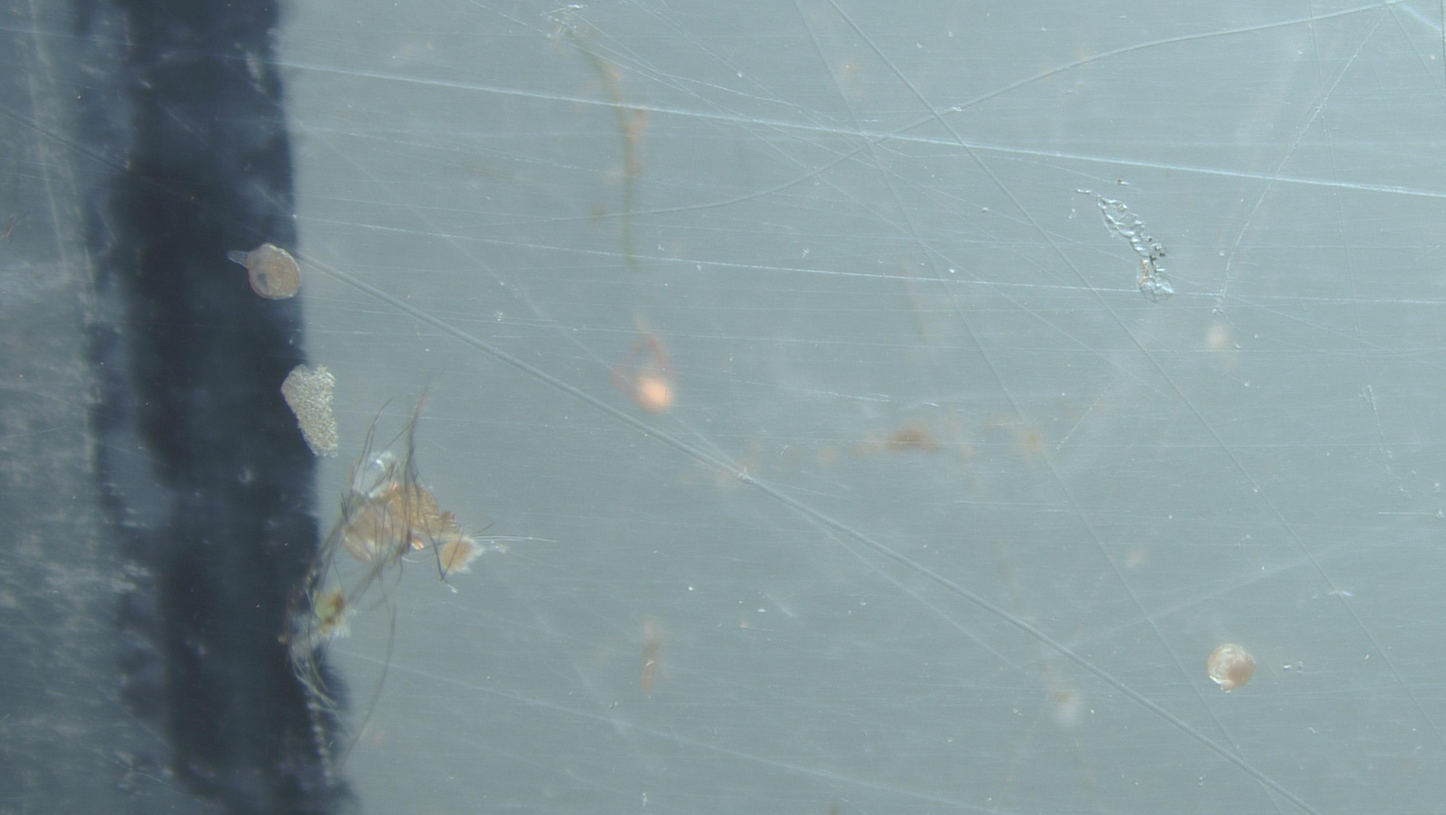live: (229, 243, 301, 300), (1207, 644, 1255, 692)
